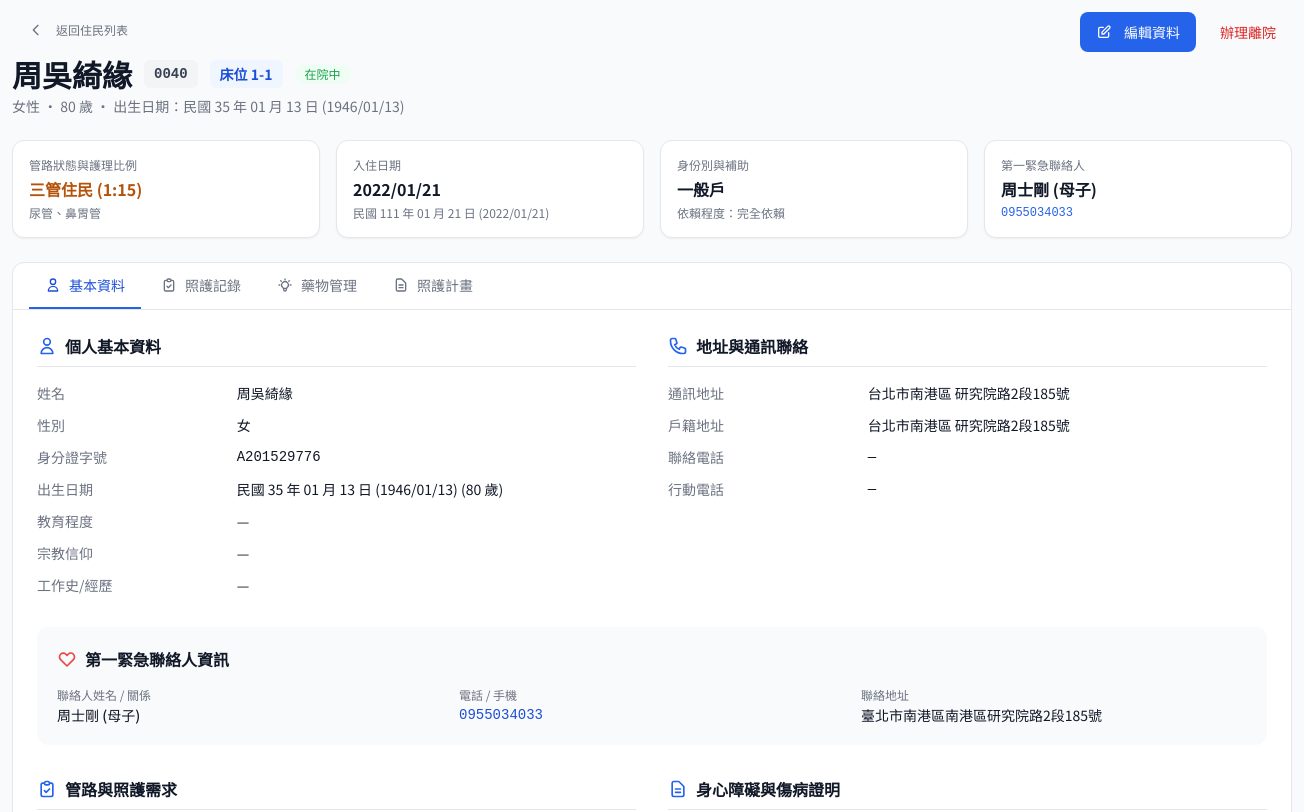
Test: ResidentDetailPage › switches between tabs
Check: the heading "周吳綺緣" is shown, box [12, 56, 132, 92]
Click the tab "照護記錄".
click(201, 286)  # box [145, 263, 257, 309]
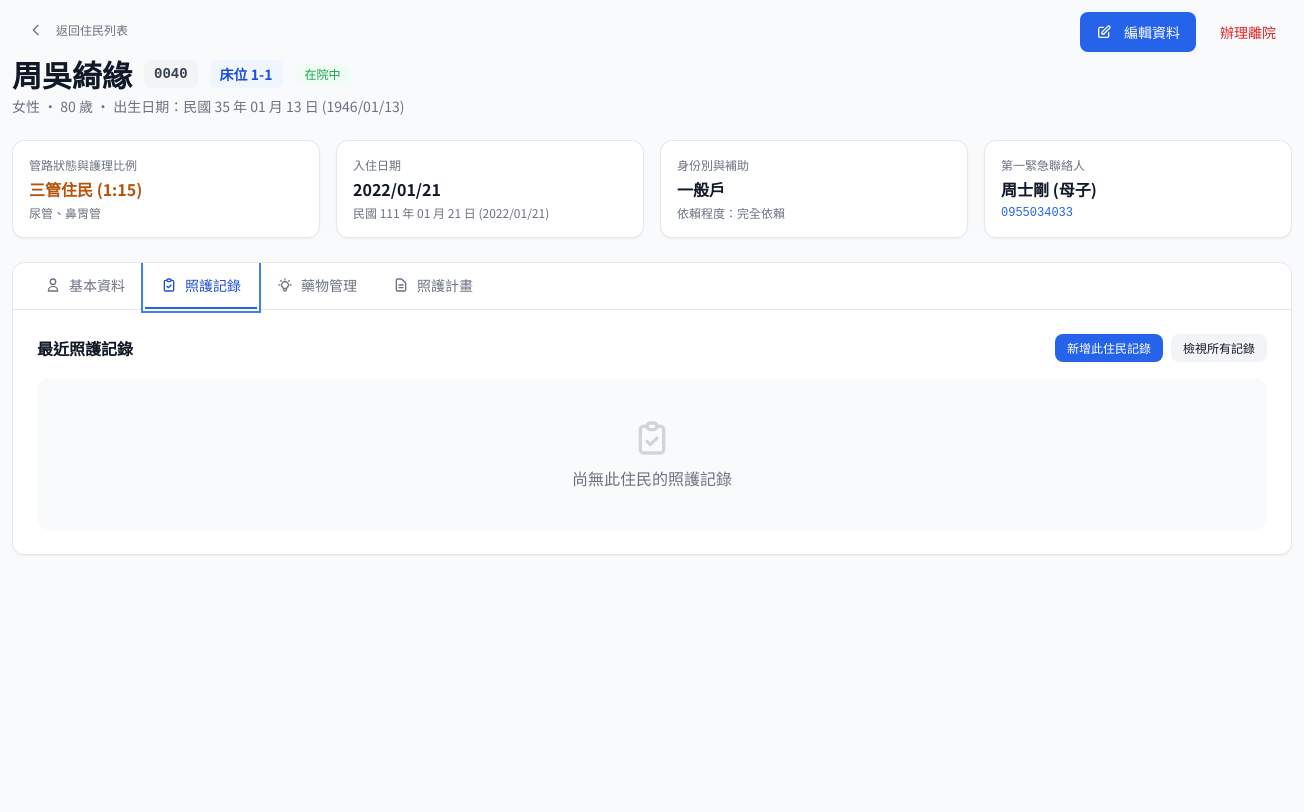
Check: the heading "最近照護記錄" is shown, box [37, 336, 133, 360]
Check: the link "新增此住民記錄" is shown, box [1055, 334, 1163, 362]
